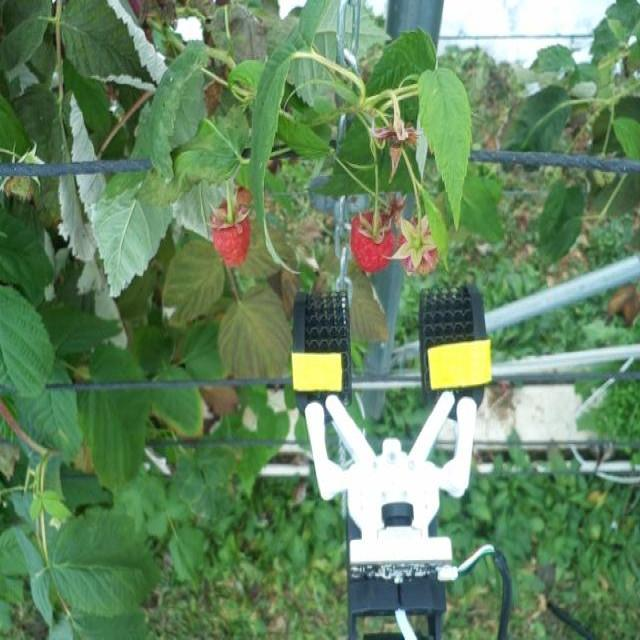Riped berries: (208, 188, 253, 268), (399, 212, 444, 278), (350, 207, 394, 272)
